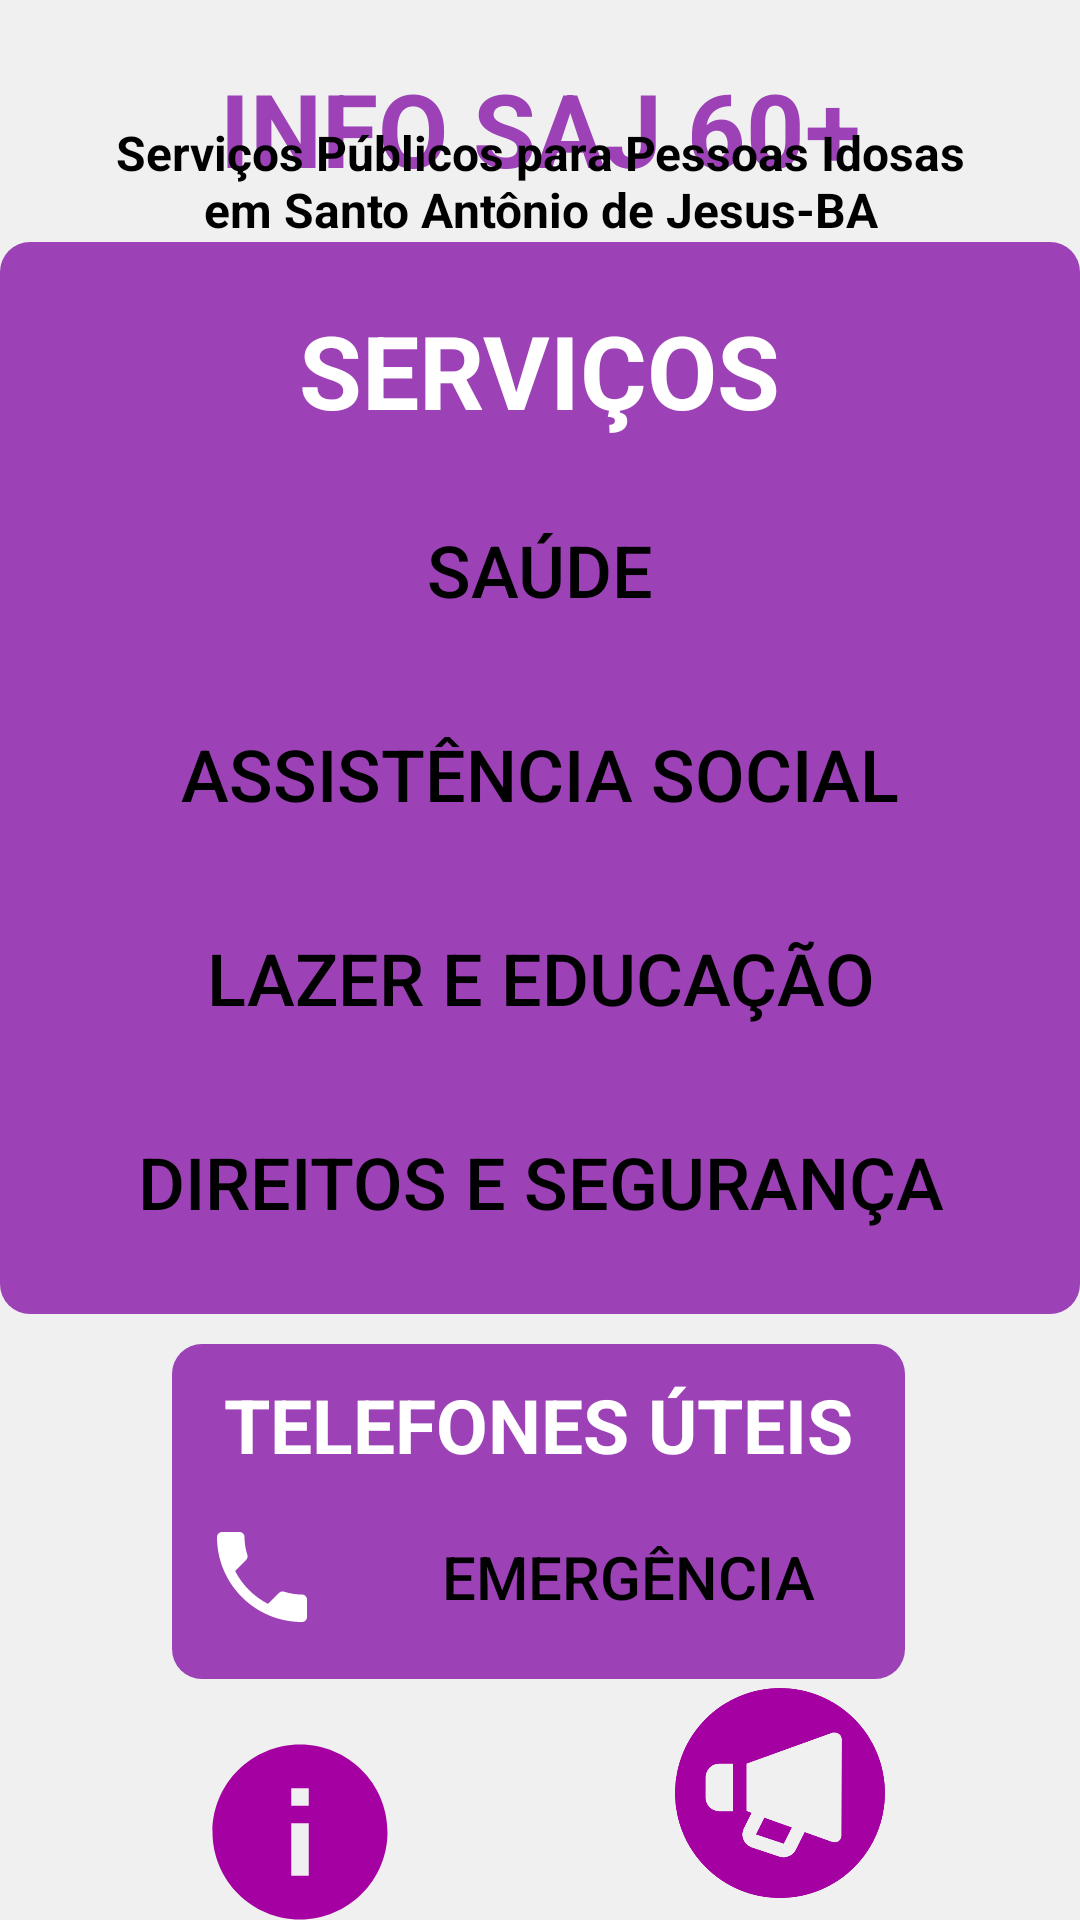

Where to tap for icons on this 1080×1920 app screen, as (x=x, y=y):
info: (x=300, y=1832)
megaphone: (x=780, y=1793)
Phone: (x=262, y=1577)
